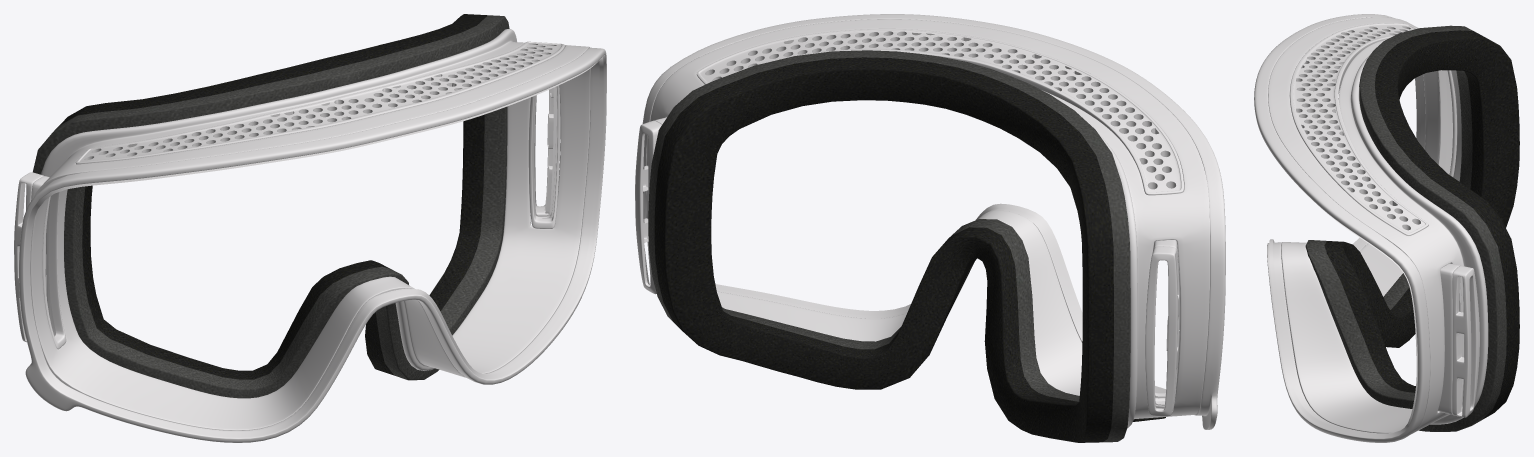
File: FRAME_Virgo_MOVI016_002.glb
3 views of the same model, side by side, from view 1: azimuth 30°, elevation 25°; view 2: azimuth 150°, elevation 25°; view 3: azimuth 270°, elevation 25° (orthographic). The views are drawn at different scales.
Parts seen in each view (by area): view 1: Full_rim_geometry, Frame-Add_Frame-01_geometry_geometry, Frame-Add_Frame-03_geometry_geometry, EXTRA_RIM_BEVEL, Frame-Add_Frame-02_geometry_geometry; view 2: Frame-Add_Frame-01_geometry_geometry, Full_rim_geometry, Frame-Add_Frame-03_geometry_geometry, Frame-Add_Frame-02_geometry_geometry, EXTRA_RIM_BEVEL; view 3: Full_rim_geometry, Frame-Add_Frame-01_geometry_geometry, Frame-Add_Frame-03_geometry_geometry, Frame-Add_Frame-02_geometry_geometry, EXTRA_RIM_BEVEL.
Boxes of the visible parts, left/top/right/bottom form: Full_rim_geometry: left=19, top=29, right=606, bottom=442; Frame-Add_Frame-01_geometry_geometry: left=33, top=14, right=509, bottom=398; Frame-Add_Frame-03_geometry_geometry: left=75, top=41, right=564, bottom=164; EXTRA_RIM_BEVEL: left=25, top=56, right=603, bottom=437; Frame-Add_Frame-02_geometry_geometry: left=14, top=85, right=560, bottom=349; Frame-Add_Frame-01_geometry_geometry: left=648, top=50, right=1165, bottom=442; Full_rim_geometry: left=642, top=14, right=1225, bottom=429; Frame-Add_Frame-03_geometry_geometry: left=696, top=28, right=1184, bottom=195; Frame-Add_Frame-02_geometry_geometry: left=635, top=117, right=1179, bottom=416; EXTRA_RIM_BEVEL: left=715, top=203, right=1165, bottom=392; Full_rim_geometry: left=1254, top=14, right=1488, bottom=442; Frame-Add_Frame-01_geometry_geometry: left=1305, top=25, right=1519, bottom=431; Frame-Add_Frame-03_geometry_geometry: left=1289, top=23, right=1428, bottom=235; Frame-Add_Frame-02_geometry_geometry: left=1438, top=70, right=1479, bottom=417; EXTRA_RIM_BEVEL: left=1269, top=76, right=1421, bottom=437.
Size of the model in its own units: 0.1891 by 0.1017 by 0.084.
1 material, 1 textured.
